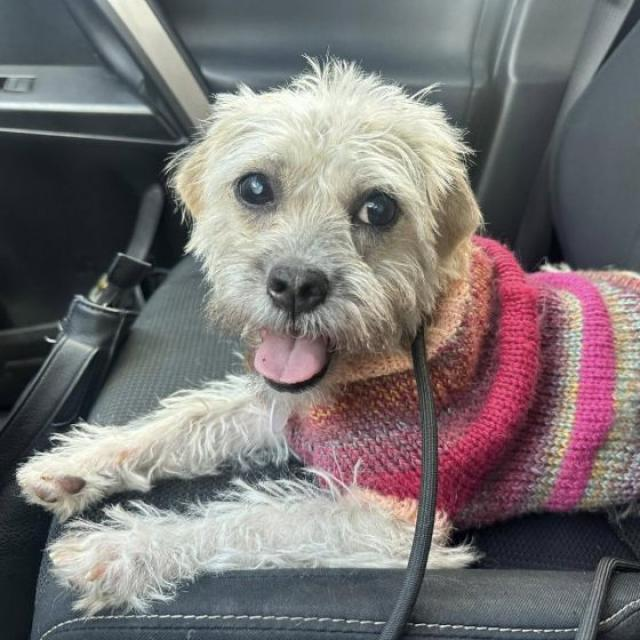Poodle_dog: (153, 60, 499, 421)
